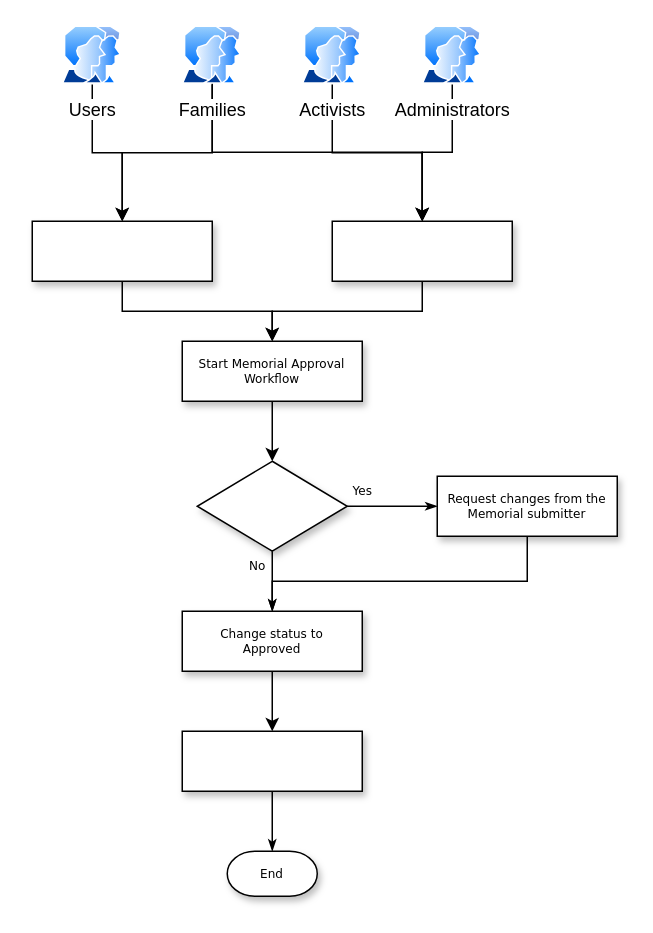
This 653x933 diagram has some shape labels left out. Here are the shapes that lost their labels. From the top down, the centre of each, then its label:
At pixel 123 253: "Submit a new Memorial of lost loved one.".
At pixel 423 253: "Edit an existing published memorial.".
At pixel 273 508: "Is there an issue with the data submitted?".
At pixel 273 763: "Memorial is now published and live on the website.".
